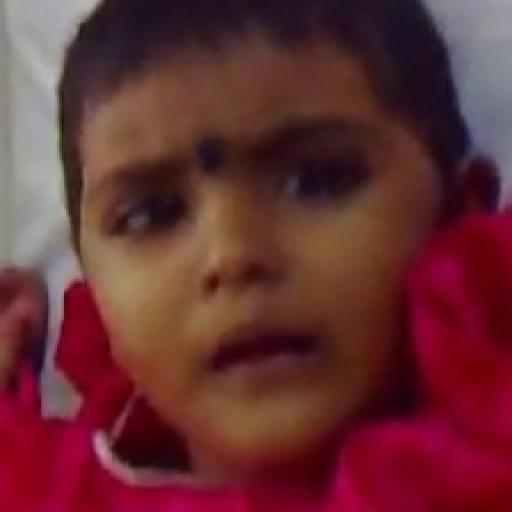Autism: (35, 8, 471, 446)
